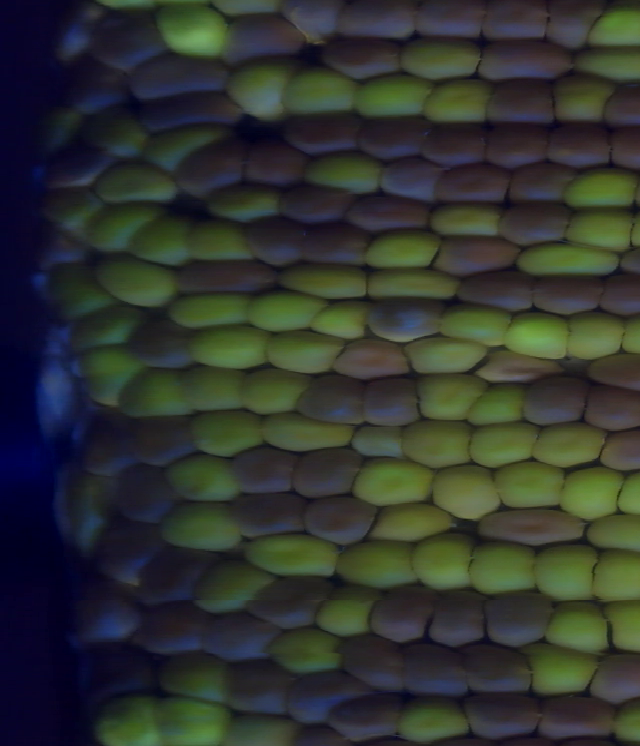fluorescent: (50, 460, 118, 566), (83, 249, 187, 316), (183, 553, 285, 620), (65, 340, 155, 415), (152, 495, 250, 561), (237, 526, 343, 586), (219, 49, 299, 128), (70, 195, 166, 260), (401, 526, 483, 600), (137, 114, 240, 172), (529, 534, 608, 609), (462, 535, 546, 605), (228, 362, 323, 423), (144, 647, 239, 708), (358, 262, 473, 312), (518, 638, 606, 702), (148, 1, 235, 65), (329, 535, 424, 593), (276, 63, 366, 124), (394, 28, 485, 88), (255, 407, 364, 457), (534, 598, 619, 662), (112, 362, 198, 425), (511, 237, 630, 282), (39, 259, 121, 324), (180, 320, 278, 374), (111, 209, 199, 269), (388, 688, 479, 746), (85, 157, 188, 208), (168, 360, 257, 419), (545, 64, 623, 131), (270, 256, 376, 305), (82, 100, 163, 164), (157, 285, 265, 333), (395, 415, 481, 475), (348, 454, 438, 511), (258, 325, 351, 380), (156, 446, 244, 504), (62, 300, 156, 354), (463, 414, 549, 473), (31, 181, 108, 246), (427, 459, 504, 524), (414, 72, 497, 132), (345, 67, 437, 121), (555, 462, 631, 527), (411, 367, 497, 424), (81, 685, 160, 746), (488, 458, 571, 516), (362, 500, 462, 548), (175, 211, 260, 267), (235, 287, 332, 336), (360, 222, 451, 274), (260, 623, 344, 679), (308, 575, 385, 636), (529, 417, 613, 472), (186, 403, 268, 459), (297, 147, 387, 198), (146, 691, 229, 746), (560, 201, 640, 258), (498, 306, 578, 362), (432, 297, 516, 350), (419, 195, 507, 244), (556, 161, 640, 212), (555, 307, 629, 364), (200, 176, 291, 221), (26, 97, 91, 159), (400, 333, 496, 374), (583, 541, 640, 610), (565, 37, 640, 88), (213, 705, 305, 746), (304, 294, 371, 348), (462, 381, 534, 429), (578, 1, 640, 54), (345, 422, 411, 468), (597, 594, 640, 656), (607, 690, 640, 746), (610, 465, 640, 526)
nonfluorescent: (63, 636, 166, 711), (86, 510, 168, 592), (85, 4, 175, 76), (212, 10, 311, 74), (126, 538, 215, 608), (329, 625, 414, 698), (469, 501, 593, 551), (70, 405, 148, 483), (274, 664, 377, 723), (474, 584, 562, 652), (470, 33, 580, 87), (123, 50, 237, 101), (130, 89, 248, 138), (474, 71, 569, 131), (53, 50, 136, 118), (452, 686, 551, 743), (214, 655, 302, 719), (456, 634, 544, 698), (197, 602, 282, 667), (121, 596, 214, 655), (216, 489, 312, 546), (106, 462, 187, 529), (285, 439, 369, 503), (245, 566, 330, 629), (119, 306, 196, 375), (418, 584, 495, 653), (168, 138, 248, 204), (357, 290, 448, 348), (236, 210, 318, 274), (394, 637, 476, 701), (320, 687, 412, 744), (337, 187, 439, 238), (61, 579, 146, 640), (171, 254, 285, 299), (534, 686, 618, 746), (445, 265, 540, 318), (512, 372, 594, 433), (121, 412, 207, 470), (426, 232, 528, 280), (226, 438, 306, 499), (275, 107, 367, 159), (42, 1, 112, 69), (470, 345, 569, 393), (298, 490, 377, 550), (487, 198, 577, 250), (325, 334, 418, 384), (373, 150, 450, 210), (365, 579, 435, 645), (290, 371, 368, 429), (24, 215, 98, 276), (290, 219, 375, 272), (425, 157, 515, 207), (349, 109, 432, 163), (328, 1, 429, 45), (271, 178, 361, 227), (539, 116, 619, 171), (524, 271, 612, 321), (477, 118, 556, 173), (235, 135, 313, 189), (354, 375, 429, 431), (417, 115, 488, 171), (40, 139, 116, 190), (501, 155, 575, 207), (406, 1, 494, 43), (574, 379, 640, 435), (477, 1, 558, 45), (540, 1, 608, 53), (586, 646, 640, 710), (581, 345, 640, 400), (593, 78, 640, 132), (595, 425, 640, 480), (280, 1, 348, 37), (591, 270, 640, 318), (600, 121, 640, 172)
